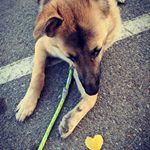puppy: (14, 1, 127, 139)
